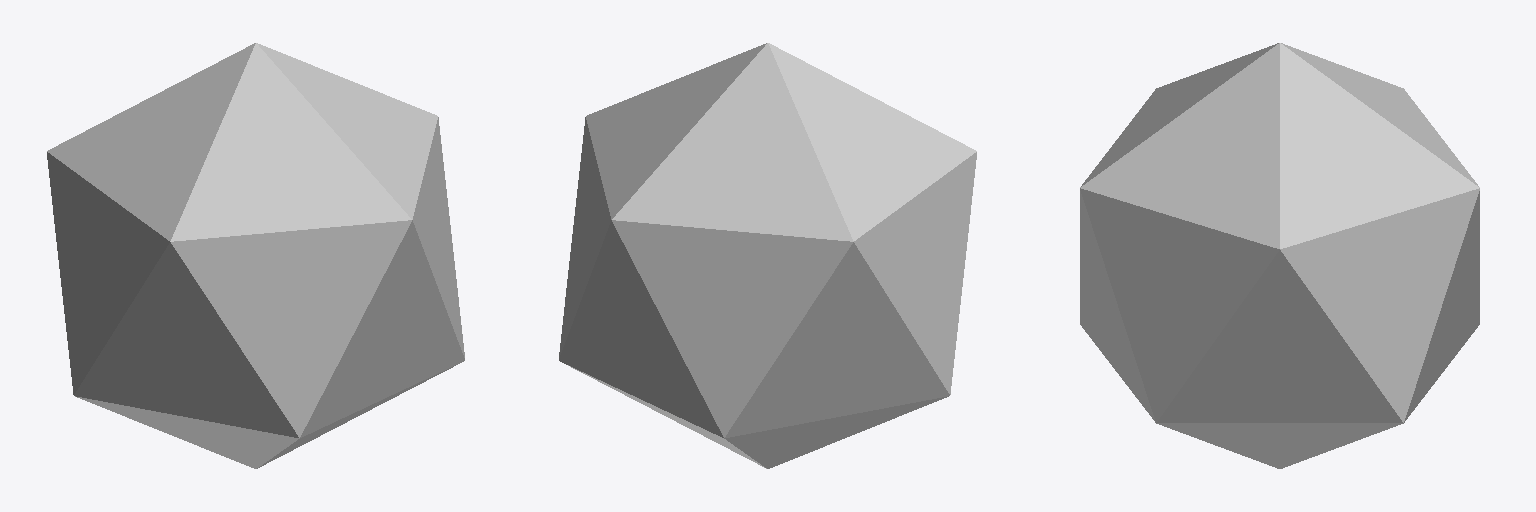
The model's file is Character.obj.
3 renders of one model, left to right at view 1: azimuth 30°, elevation 25°; view 2: azimuth 150°, elevation 25°; view 3: azimuth 270°, elevation 25°, orthographic.
Parts seen in each view (by area): view 1: GeoSphere001; view 2: GeoSphere001; view 3: GeoSphere001.
Part boxes in pixels (left/top/right/bottom): GeoSphere001: left=47, top=43, right=464, bottom=468; GeoSphere001: left=559, top=43, right=976, bottom=468; GeoSphere001: left=1080, top=43, right=1479, bottom=468.
Bounding box in the file's own units: 11.9 × 13.31 × 11.32.